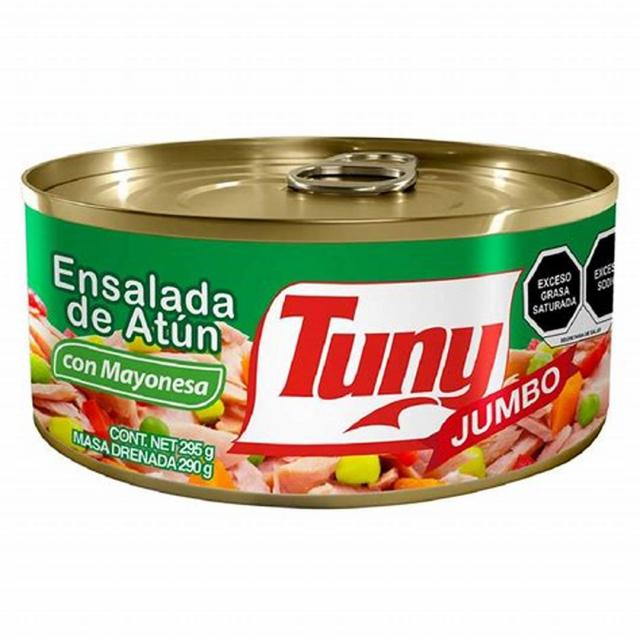Lata: (13, 138, 620, 510)
